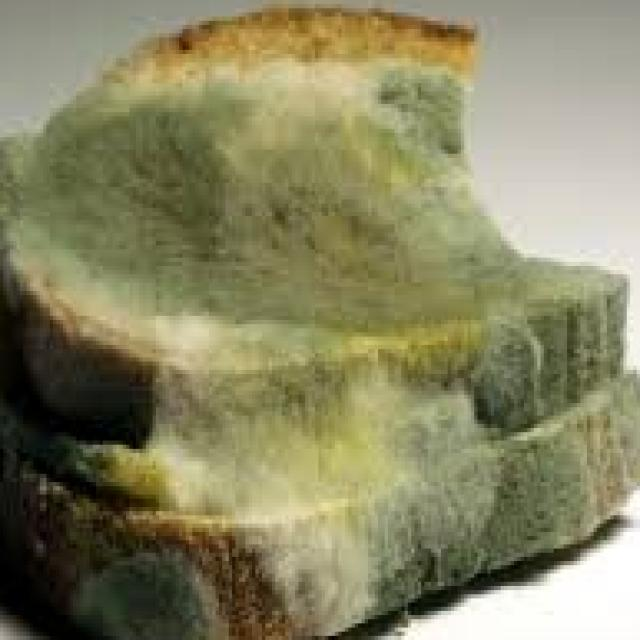inorganic: (6, 13, 631, 635)
